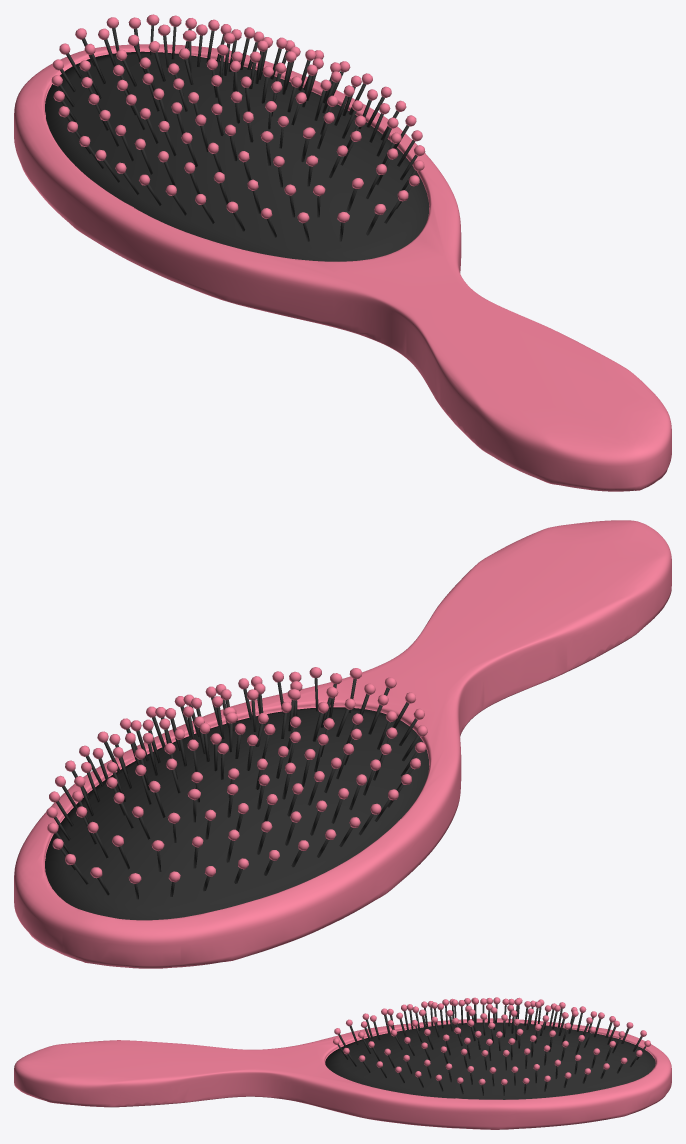
3 renders of one model, top to bottom at view 1: azimuth 30°, elevation 25°; view 2: azimuth 150°, elevation 25°; view 3: azimuth 270°, elevation 25°, orthographic. The views are drawn at different scales.
Parts seen in each view (by area): view 1: Tips_0; view 2: Tips_0; view 3: Tips_0.
Boxes of the visible parts, <box> form: Tips_0: <box>14,14,671,491</box>; Tips_0: <box>14,520,671,968</box>; Tips_0: <box>14,997,671,1129</box>.
Bounding box in the file's own units: 0.0723 × 0.0277 × 0.2237.
